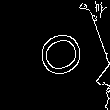O_W: (25, 26, 85, 84)
